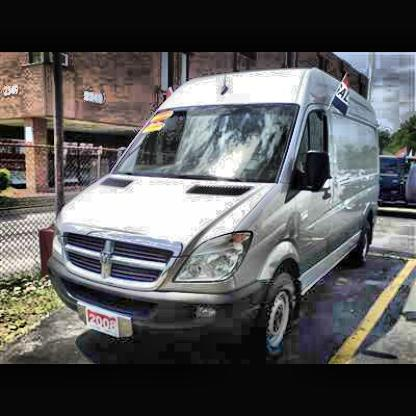Dodge Sprinter Cargo Van 2009: (49, 70, 383, 365)
